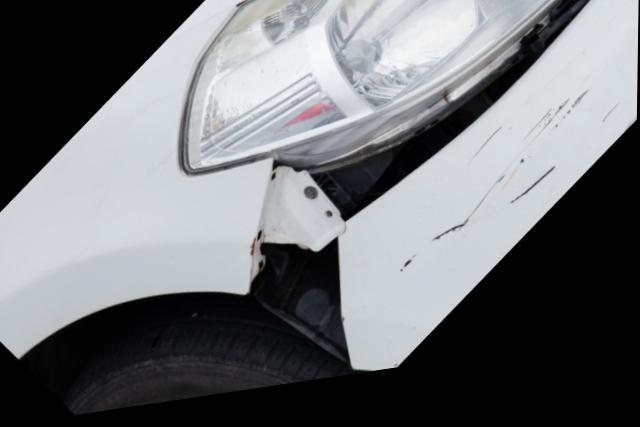dislocated part: (248, 0, 639, 382)
scratch: (394, 101, 638, 286)
